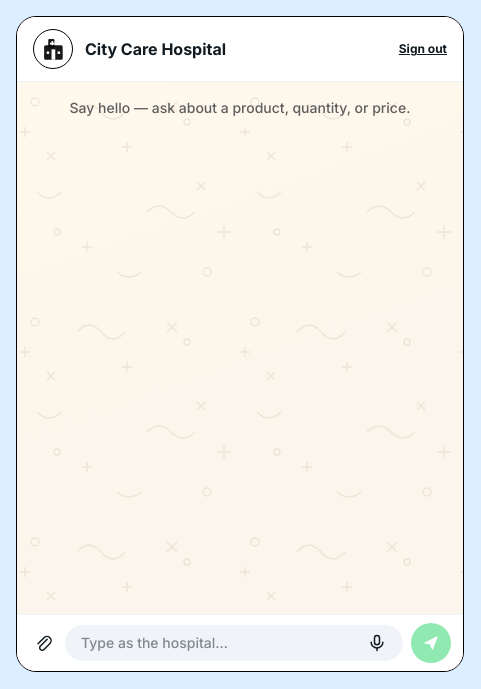
it: HospitalChatPage › sends a message through the chat API scoped to this hospital only
The image size is (481, 689).
In the field with test id "chat-input": {"x": 220, "y": 643} [81,633,359,653], type "need 50 gloves"
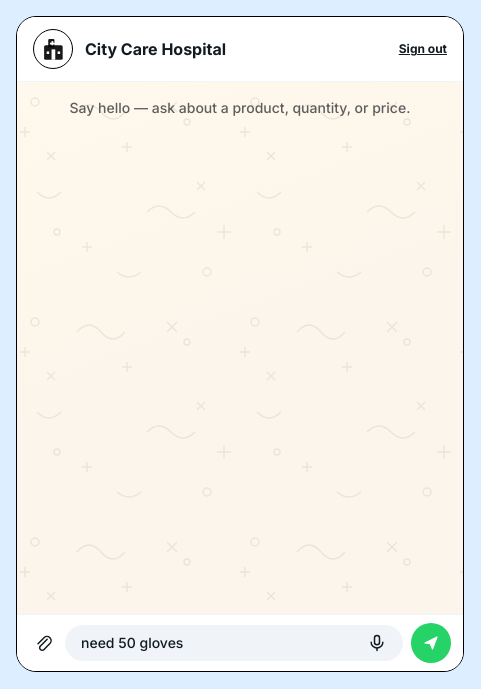
Click the button with test id "chat-send": {"x": 431, "y": 643} [411,623,451,663]
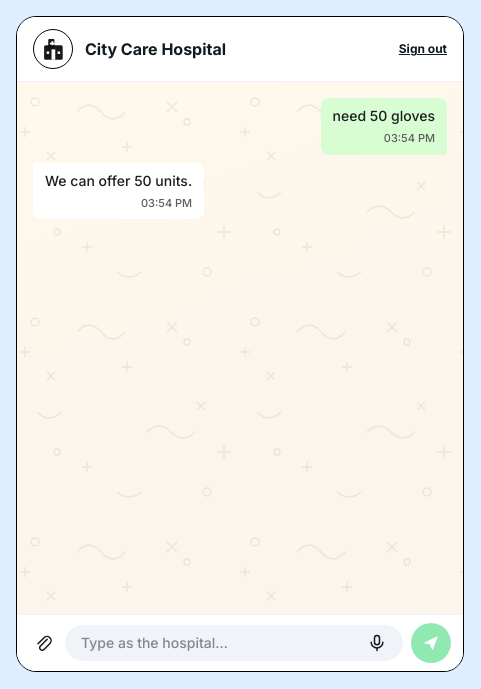
Now the text "We can offer 50 units." is shown, box [45,170,192,190]
